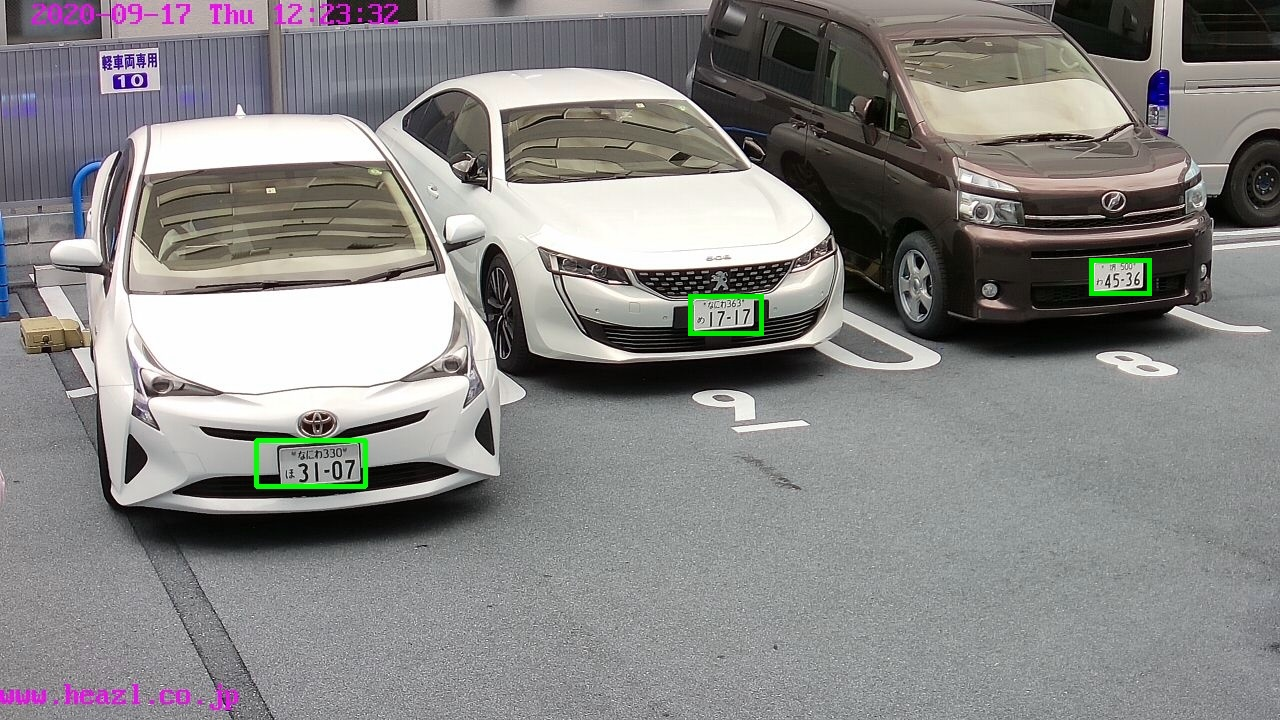number_plate: (279, 440, 365, 484), (696, 296, 755, 328), (1092, 260, 1144, 290)
